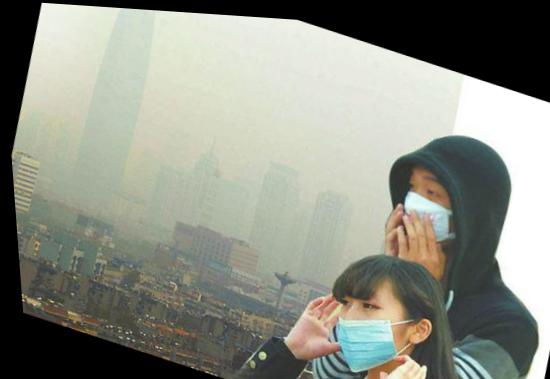OK: (384, 158, 475, 252)
WRONG: (317, 280, 411, 376)
